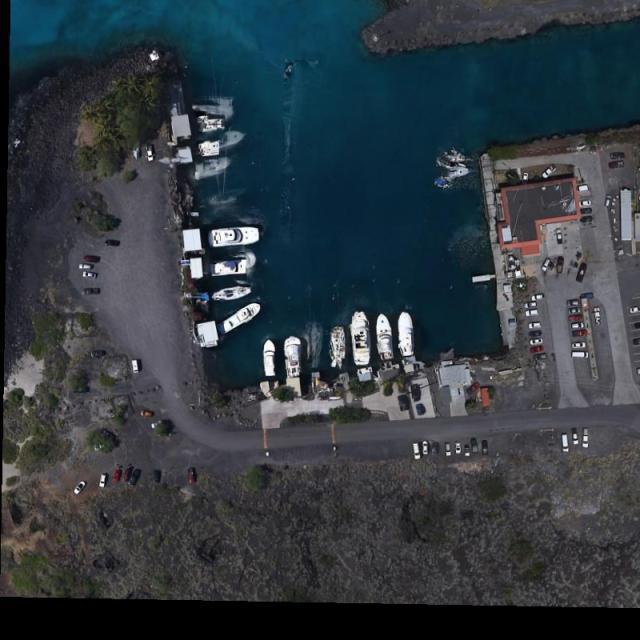vehicle: (577, 263, 587, 283), (131, 141, 142, 159), (466, 382, 481, 394), (129, 470, 140, 486), (412, 442, 422, 459), (542, 165, 555, 178), (398, 395, 409, 410), (74, 481, 86, 494), (557, 257, 565, 274), (525, 309, 539, 318), (82, 271, 97, 279), (470, 438, 478, 453), (556, 228, 563, 245), (562, 434, 569, 451), (151, 420, 164, 429), (582, 428, 588, 447), (122, 468, 130, 482), (147, 146, 154, 162), (94, 441, 106, 450), (542, 259, 551, 271), (90, 351, 105, 358), (412, 385, 419, 400), (581, 293, 594, 301), (84, 288, 101, 294), (133, 360, 140, 374), (576, 186, 590, 193), (482, 440, 489, 454), (422, 440, 428, 456), (530, 346, 542, 354), (572, 352, 588, 358), (154, 469, 161, 482), (114, 469, 121, 482), (80, 263, 93, 270), (609, 162, 622, 169), (528, 331, 541, 338), (455, 442, 462, 455), (573, 342, 586, 349), (571, 322, 584, 329), (85, 256, 100, 262), (594, 307, 600, 322), (610, 152, 624, 158), (524, 302, 538, 308), (530, 294, 544, 300), (418, 402, 425, 414), (567, 301, 581, 307), (574, 330, 586, 337), (570, 314, 582, 321), (106, 240, 119, 246), (100, 474, 106, 487), (432, 442, 438, 455), (528, 322, 541, 328), (446, 443, 452, 456), (534, 354, 546, 360), (530, 339, 542, 345), (580, 216, 592, 222), (631, 337, 640, 345), (574, 431, 579, 445), (142, 411, 153, 417), (581, 208, 592, 214), (579, 200, 590, 206), (605, 196, 611, 207), (568, 308, 579, 314), (190, 469, 195, 482), (522, 173, 528, 183), (630, 307, 640, 313), (465, 446, 470, 457), (634, 322, 640, 329), (637, 368, 640, 374)
